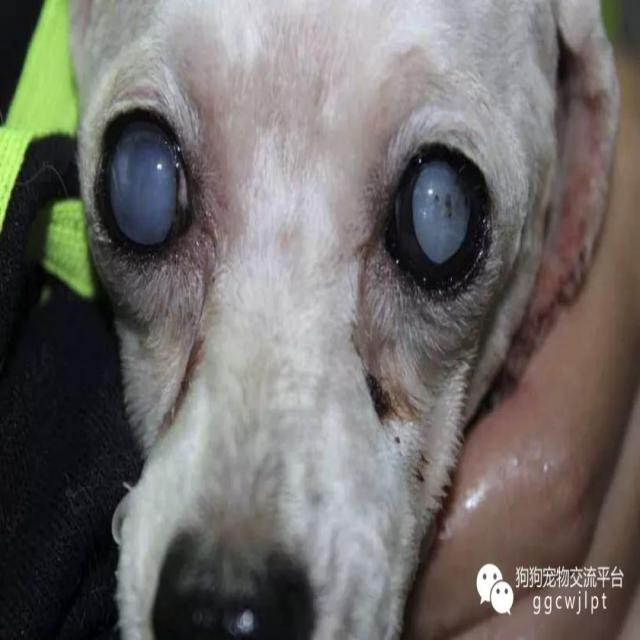eye: (376, 132, 496, 302), (96, 105, 199, 261)
